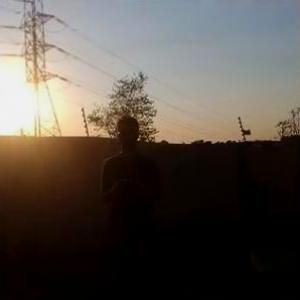follow: (97, 109, 166, 299)
